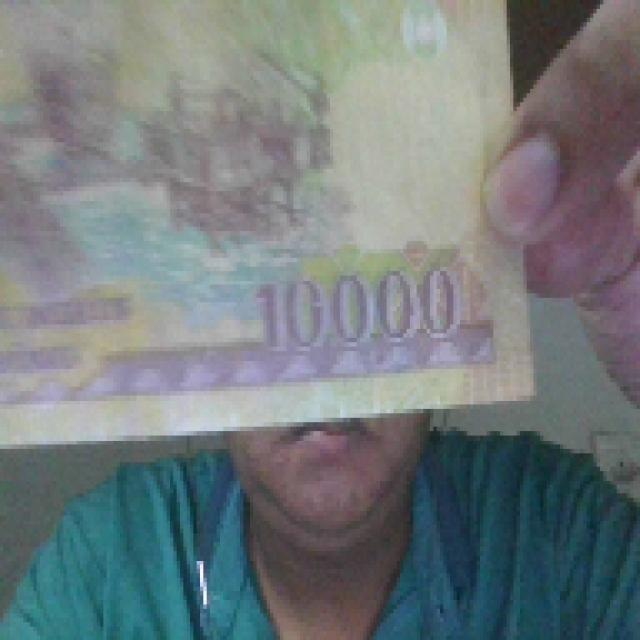10 000 VND: (0, 0, 540, 453)
